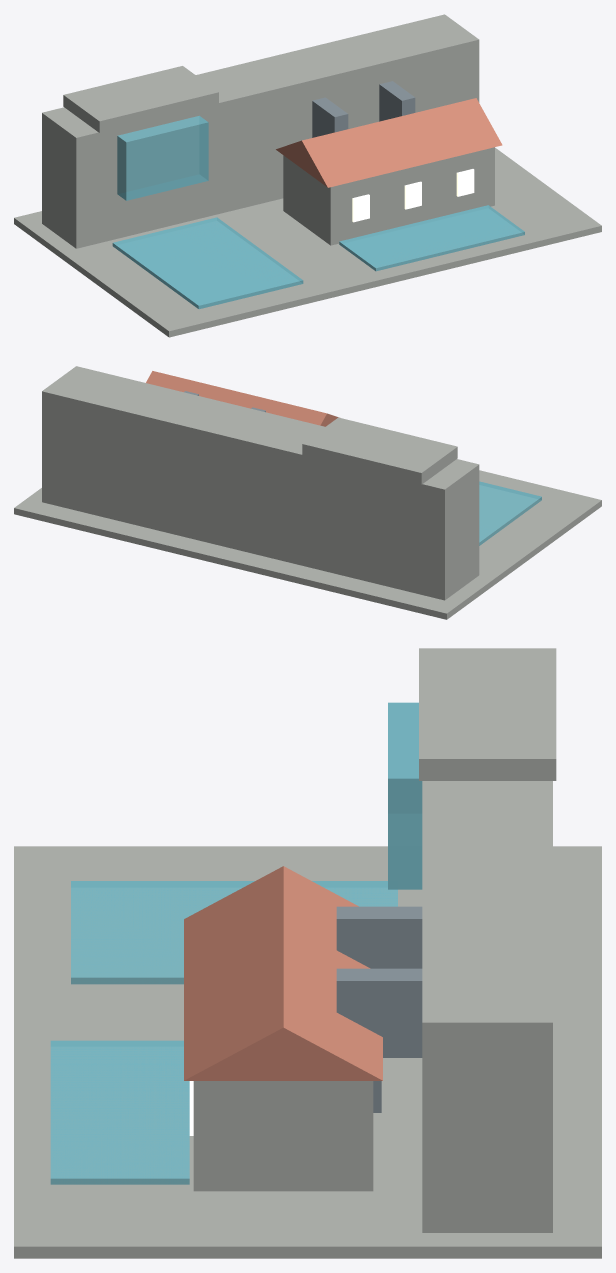
The model's file is lm_37_nha_may_thuy_dien_co_ankroet_1945.glb.
The picture shows the model from 3 angles, top to bottom: view 1: azimuth 30°, elevation 25°; view 2: azimuth 150°, elevation 25°; view 3: azimuth 270°, elevation 25°; orthographic projection. The views are drawn at different scales.
Parts seen in each view (by area): view 1: lm_37_nha_may_thuy_dien_co_ankroet_1945; view 2: lm_37_nha_may_thuy_dien_co_ankroet_1945; view 3: lm_37_nha_may_thuy_dien_co_ankroet_1945.
Part boxes in pixels (x1=…): lm_37_nha_may_thuy_dien_co_ankroet_1945: x1=14, y1=14, x2=601, y2=337; lm_37_nha_may_thuy_dien_co_ankroet_1945: x1=14, y1=366, x2=601, y2=619; lm_37_nha_may_thuy_dien_co_ankroet_1945: x1=14, y1=648, x2=601, y2=1258.
Bounding box in the file's own units: 58 × 16.5 × 36.
